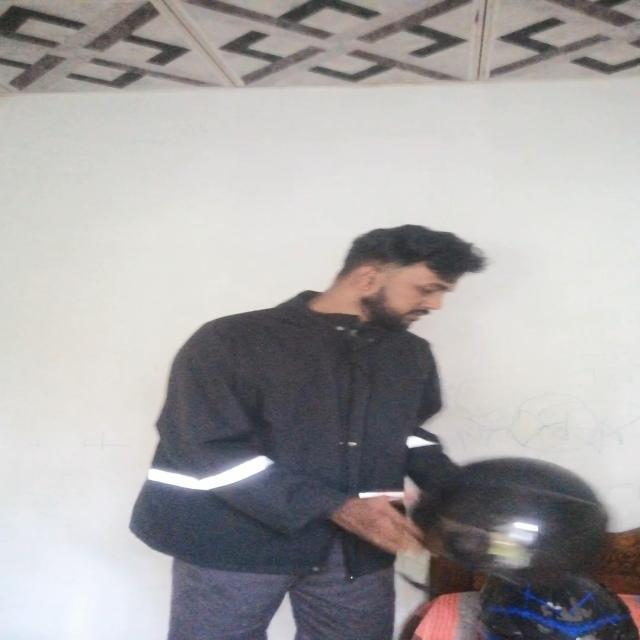Jacket_Wearer: (160, 287, 458, 576)
Person: (139, 206, 517, 640)
